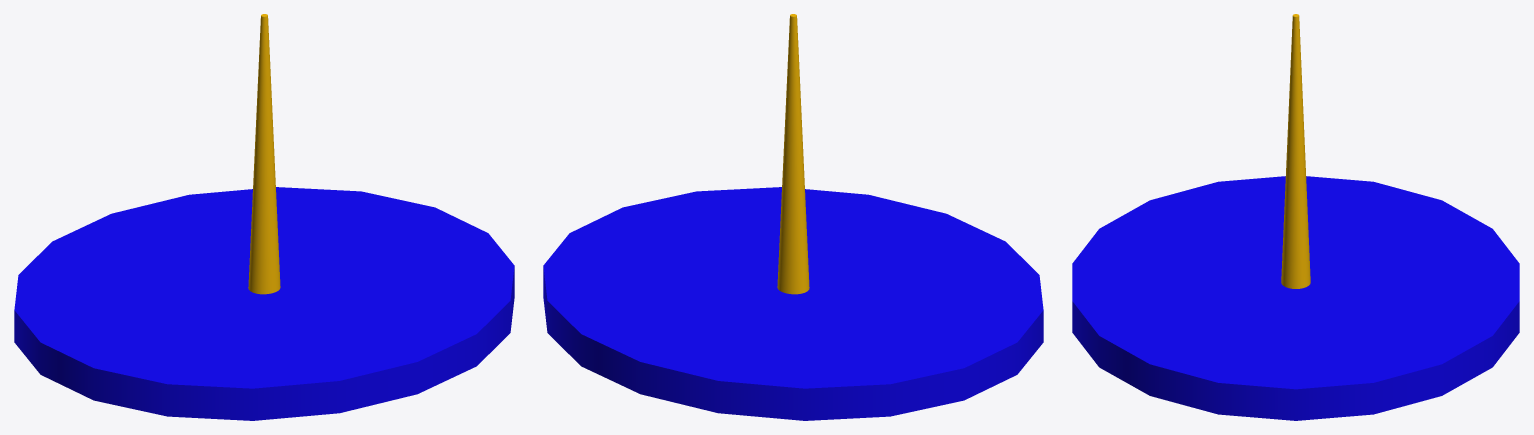
Rendered from othumbtack_blue.FBX.
3 views of the same model, side by side, from view 1: azimuth 30°, elevation 25°; view 2: azimuth 150°, elevation 25°; view 3: azimuth 270°, elevation 25° (orthographic). The views are drawn at different scales.
Visible parts, largest first — view 1: Cylinder001, Cone001; view 2: Cylinder001, Cone001; view 3: Cylinder001, Cone001.
Part boxes in pixels (bbox=[...]): Cylinder001: bbox=[14, 187, 514, 420]; Cone001: bbox=[248, 14, 280, 294]; Cylinder001: bbox=[543, 187, 1043, 420]; Cone001: bbox=[777, 14, 809, 294]; Cylinder001: bbox=[1072, 176, 1519, 420]; Cone001: bbox=[1281, 14, 1310, 288].
Bounding box in the file's own units: 3.18 × 2.81 × 2.07.
Materials: 2 (2 with a texture image).
